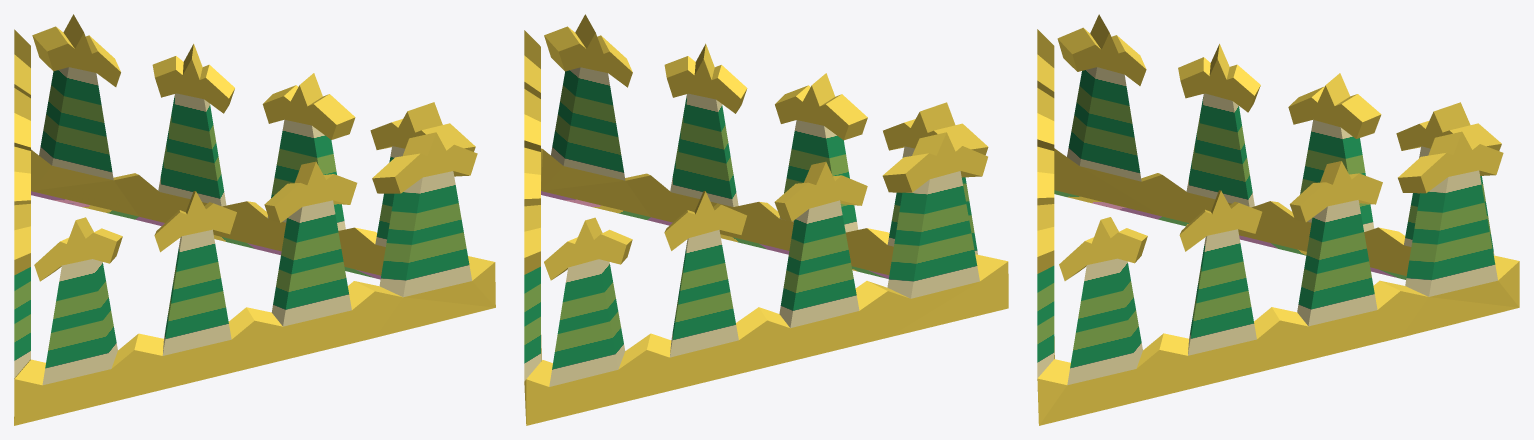
Rendered from M_crown.fbx.
3 renders of one model, left to right at view 1: azimuth 30°, elevation 25°; view 2: azimuth 150°, elevation 25°; view 3: azimuth 270°, elevation 25°, orthographic.
Visible parts, largest first — view 1: Plane.001; view 2: Plane.001; view 3: Plane.001.
Part boxes in pixels (box(x1,y1,x2,y2)): Plane.001: box(14, 14, 495, 425); Plane.001: box(524, 14, 1008, 425); Plane.001: box(1037, 14, 1519, 425).
Size of the model in its own units: 82.63 by 31.21 by 71.35.
